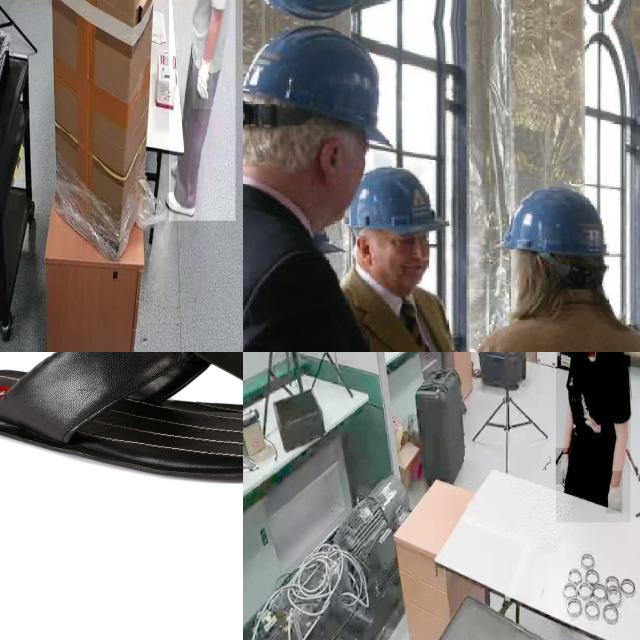No_Ear-Protection: (320, 138, 343, 183), (355, 233, 376, 269)
No_Glasses: (390, 233, 429, 248)
Sandals: (0, 352, 243, 485)
face_nomask: (380, 247, 429, 291)
hand_glove: (193, 60, 213, 110), (605, 471, 623, 514), (556, 448, 570, 485)
head_helmet: (243, 27, 390, 145), (503, 188, 603, 256), (349, 168, 447, 232)
person: (169, 0, 236, 221), (556, 352, 631, 523)
shoes: (164, 186, 200, 224)
